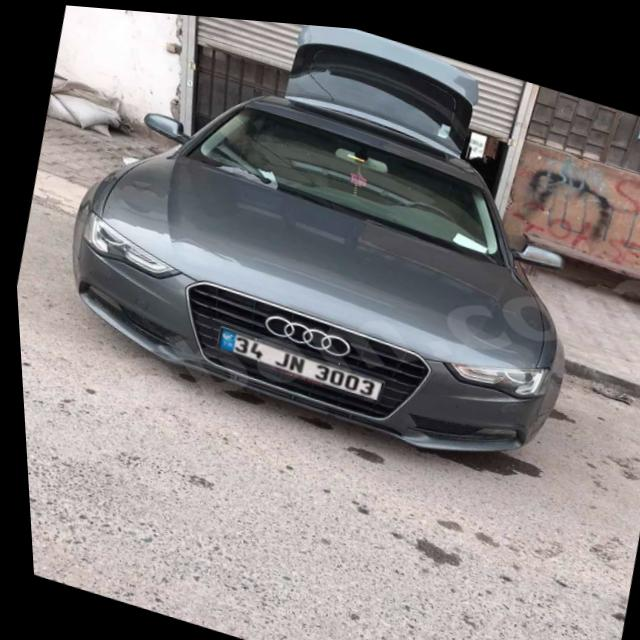license_plate: (211, 323, 379, 395)
